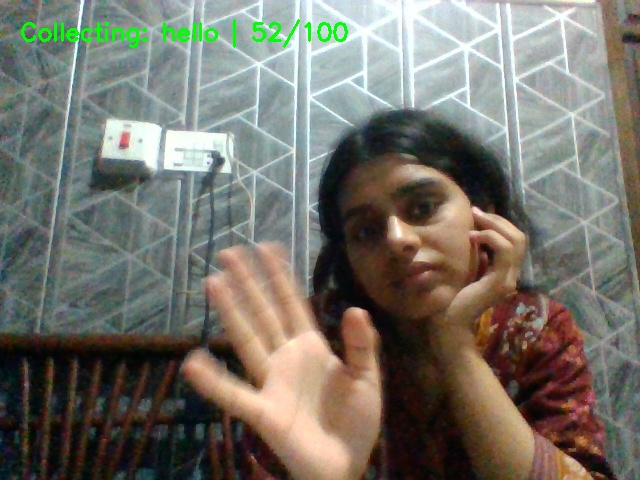hello: (169, 233, 393, 480)
